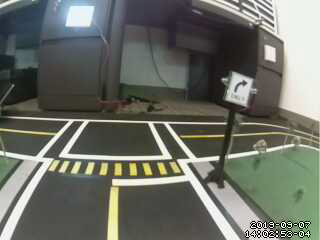Right_only_sign: (222, 67, 253, 114)
